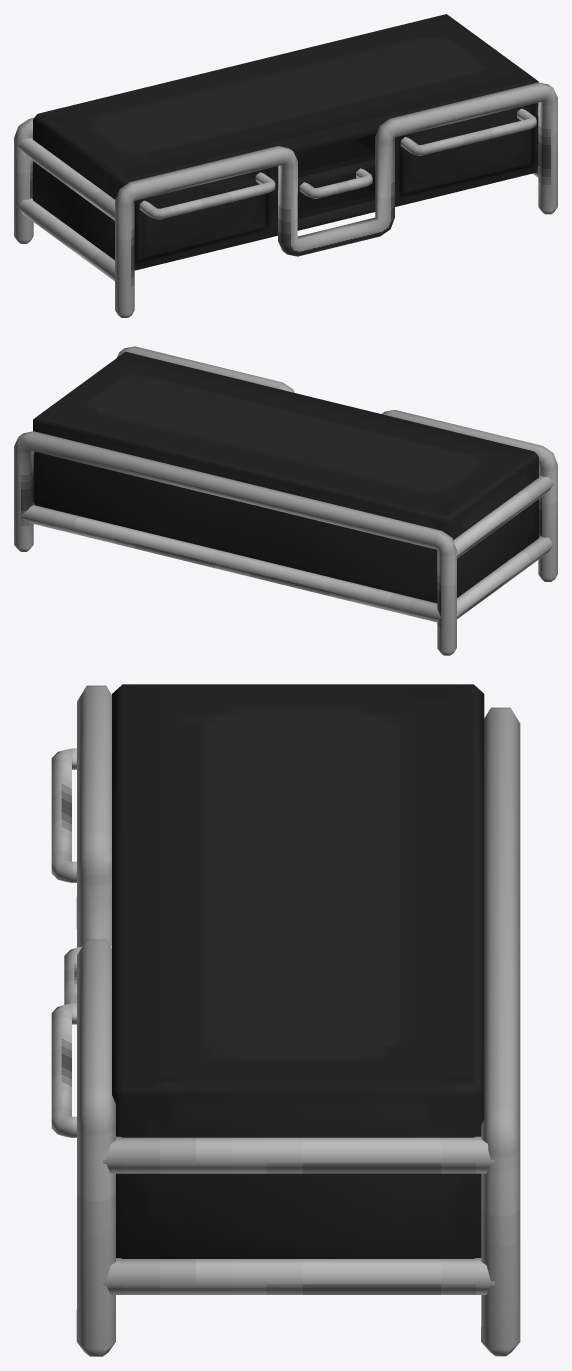
Rendered from rmk_pip_shelf.dae.
3 views of the same model, one above another, from view 1: azimuth 30°, elevation 25°; view 2: azimuth 150°, elevation 25°; view 3: azimuth 270°, elevation 25° (orthographic). The views are drawn at different scales.
Parts seen in each view (by area): view 1: rmk_pip_shelf; view 2: rmk_pip_shelf; view 3: rmk_pip_shelf.
Boxes of the visible parts, bbox=[...] form: rmk_pip_shelf: bbox=[14, 14, 557, 317]; rmk_pip_shelf: bbox=[14, 346, 557, 655]; rmk_pip_shelf: bbox=[51, 684, 520, 1356].
Size of the model in its own units: 58.75 by 16.75 by 27.17.
2 materials, 2 textured.
